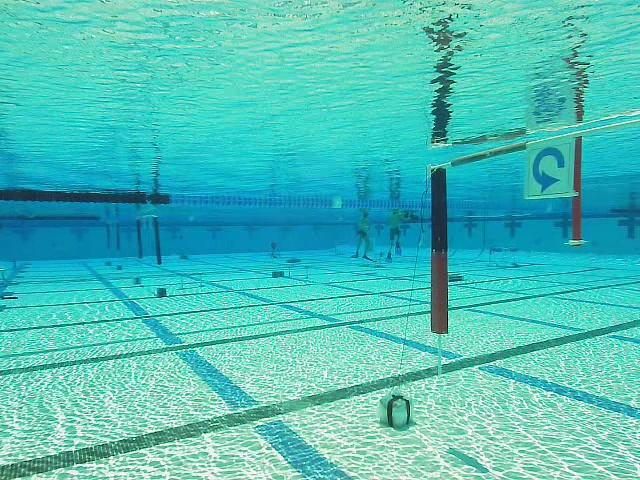gate_blue: (525, 140, 572, 198)
gate_leg_l: (428, 164, 449, 334)
